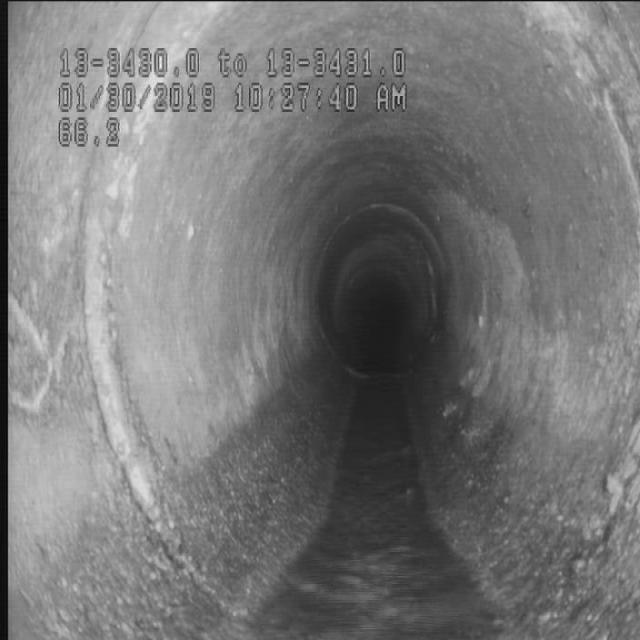Crack: (572, 408, 637, 630)
